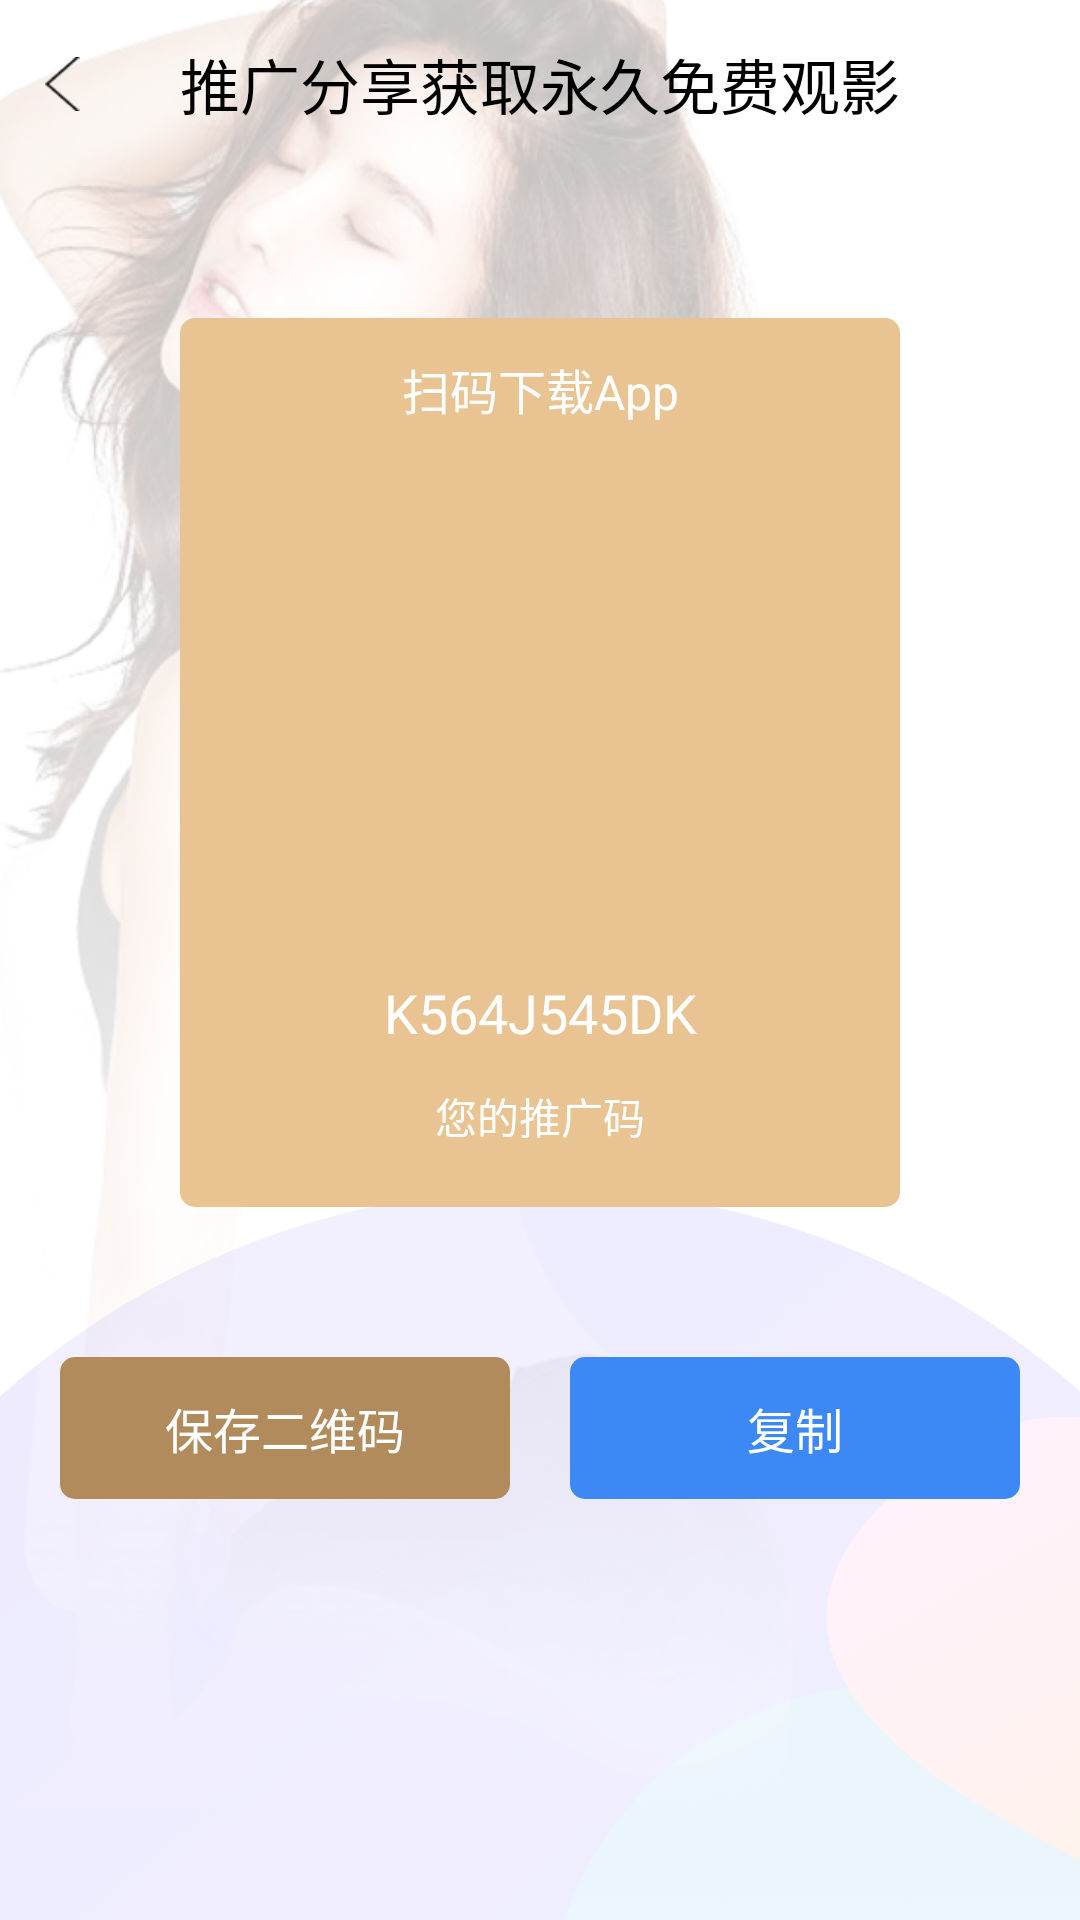

Icon bounding boxes for this 1080px x 1920px phone screenshot, format (x1, y1, x2, y2):
back: (45, 57, 80, 111)
